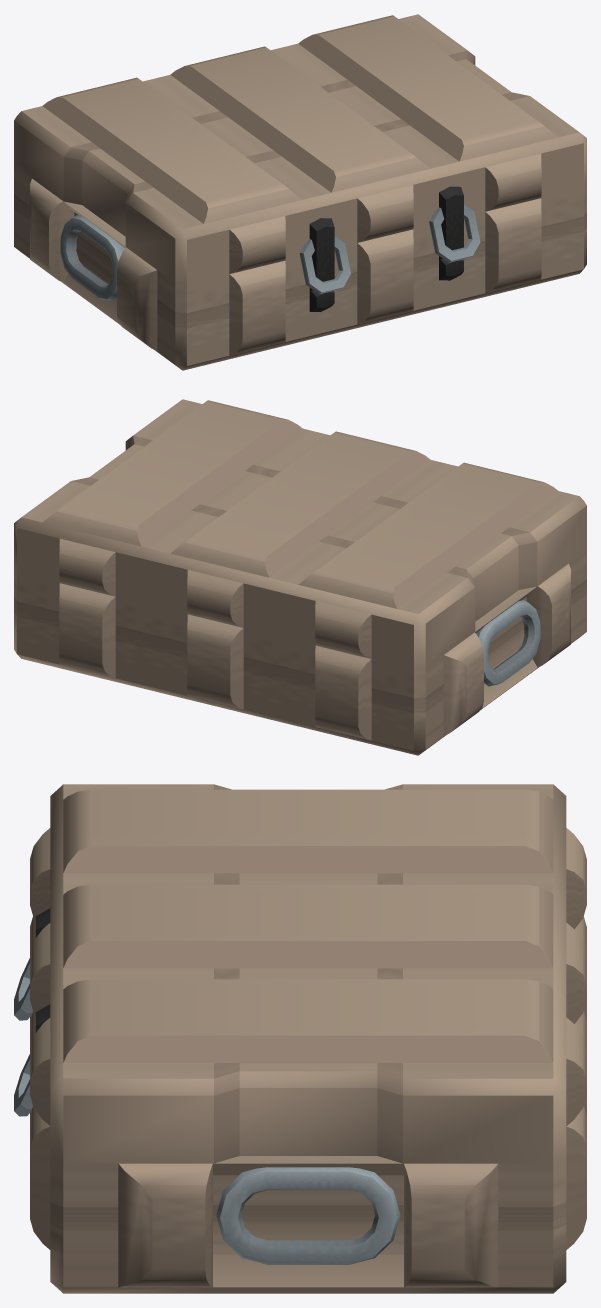
Rendered from Containers_Crate_Medium_Tan.gltf.
3 renders of one model, top to bottom at view 1: azimuth 30°, elevation 25°; view 2: azimuth 150°, elevation 25°; view 3: azimuth 270°, elevation 25°, orthographic. The views are drawn at different scales.
Visible parts, largest first — view 1: Containers_Crate_Medium_Tan; view 2: Containers_Crate_Medium_Tan; view 3: Containers_Crate_Medium_Tan.
Part boxes in pixels (box(x1,y1,x2,y2)): Containers_Crate_Medium_Tan: box(14, 14, 586, 370); Containers_Crate_Medium_Tan: box(14, 399, 586, 755); Containers_Crate_Medium_Tan: box(14, 784, 586, 1293).
Size of the model in its own units: 1.48 by 0.5 by 1.11.
Materials: 1 (1 with a texture image).
